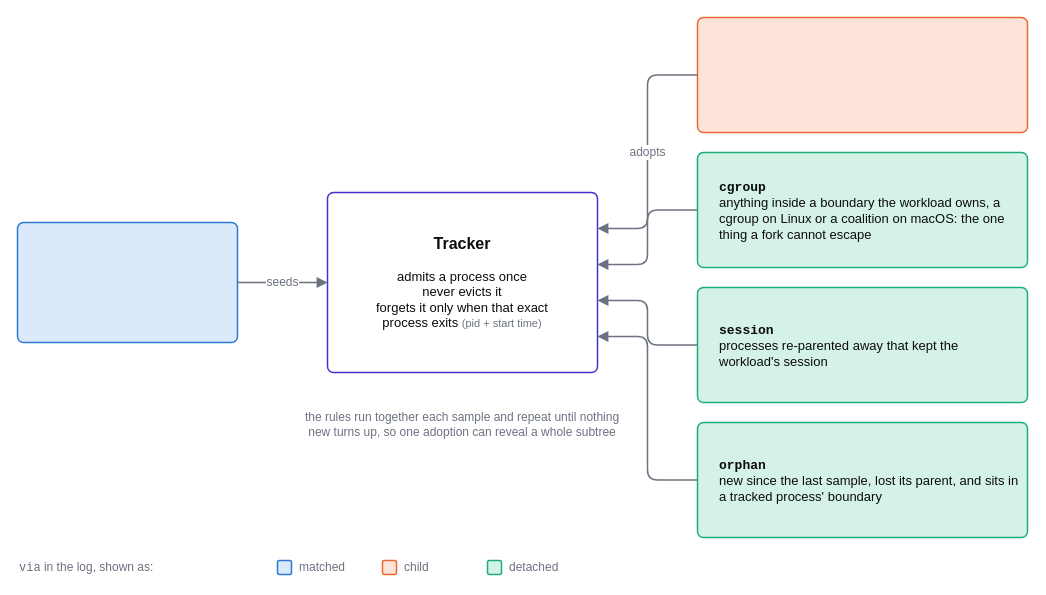
Some shapes in this 1046 by 595 pixel diagram are drawn without their labels. The shapes that lost their labels are listed below. From the top down, each one's box as (x1, y1, x2, y2) in pixels, then its label:
(696, 16, 1028, 133): tree children and grandchildren, found by following parent links
(16, 221, 238, 343): matcher names the workload KEYWORD · --exact --regex · --pid
